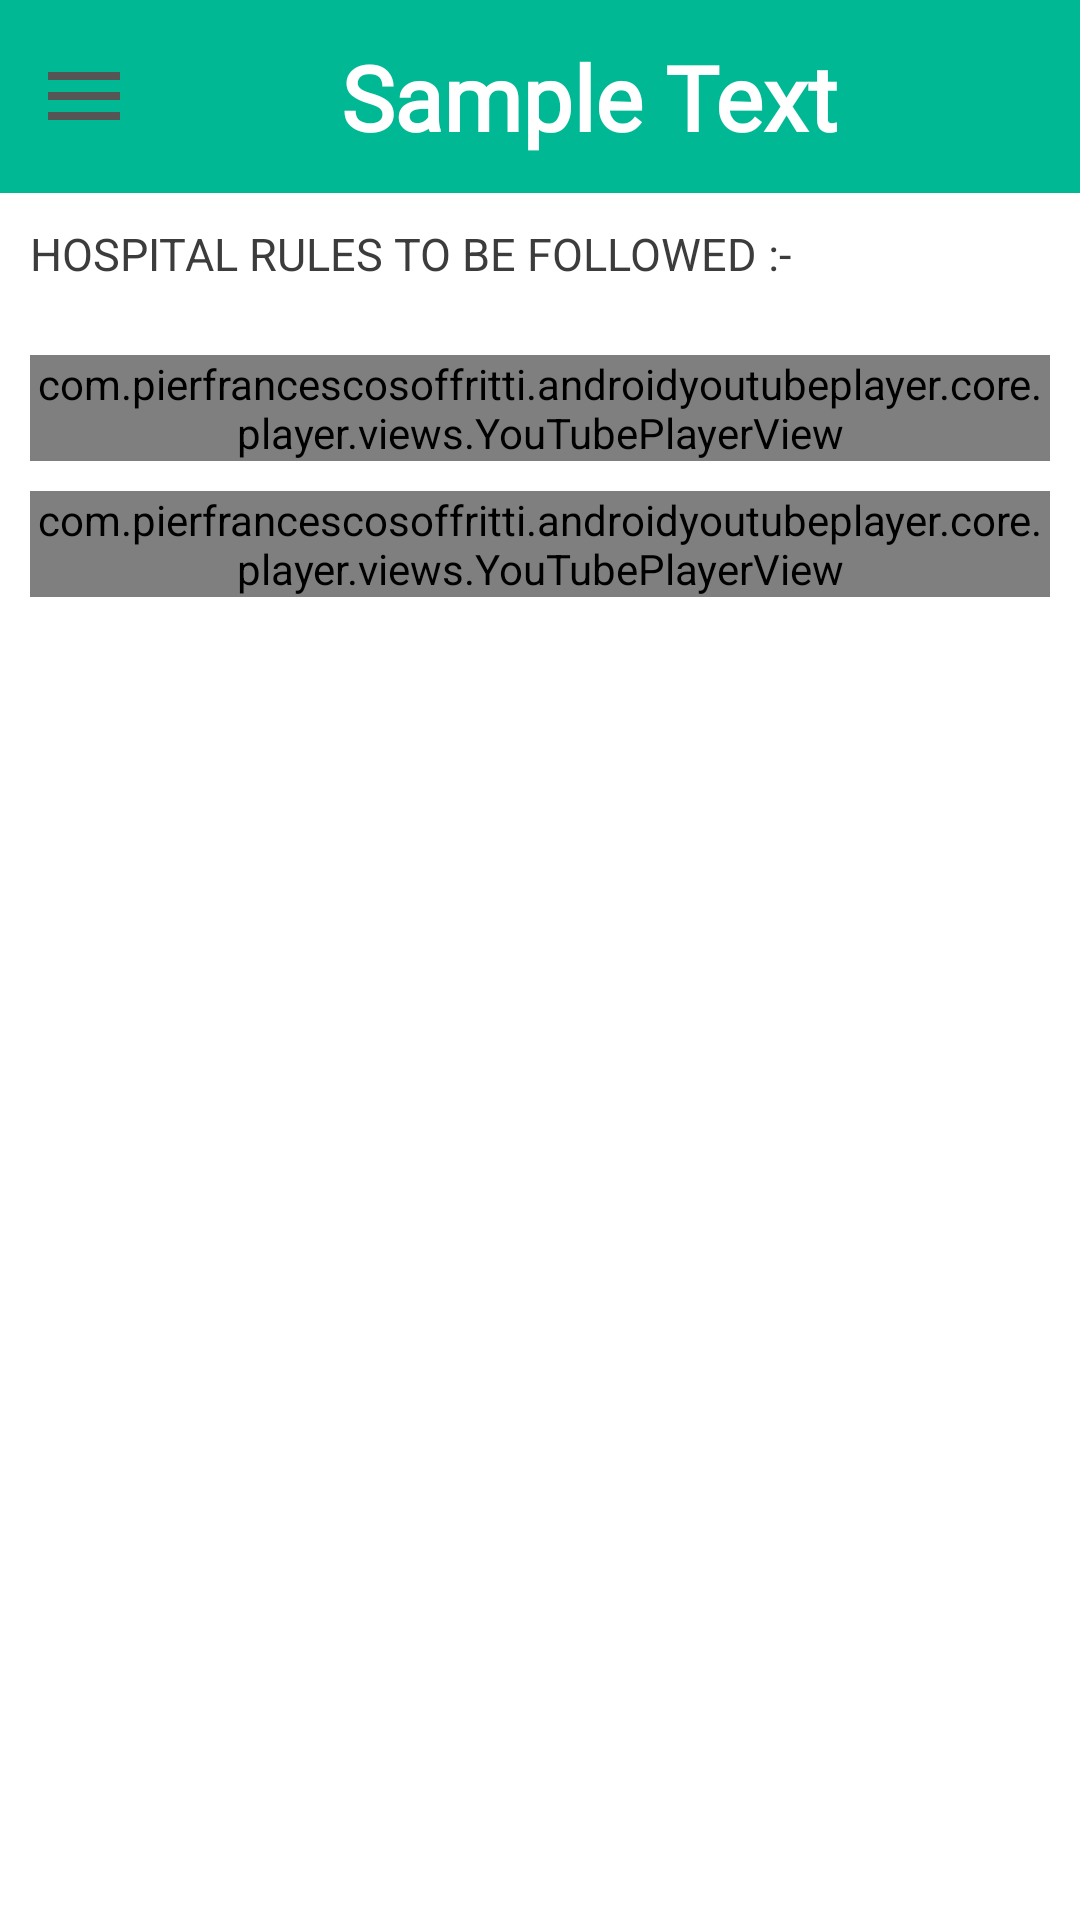

Where to tap for icons on this 1080×1920 app screen, as (x=x, y=y):
menu: (x=84, y=96)
